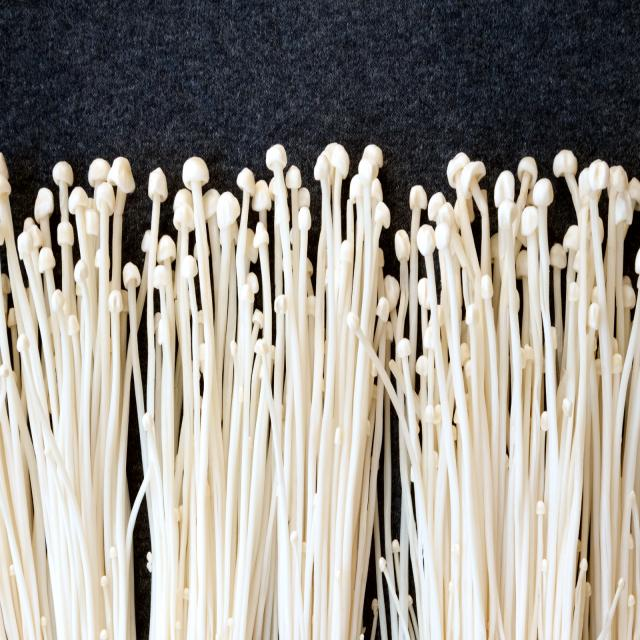Mushroom: (1, 126, 640, 640)
